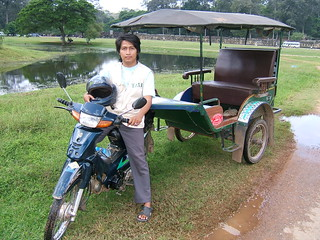motorbike: (43, 96, 129, 240)
